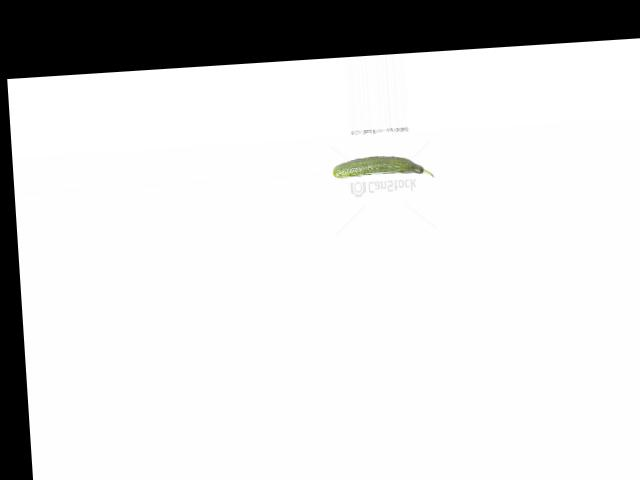cucumber: (332, 152, 434, 183)
